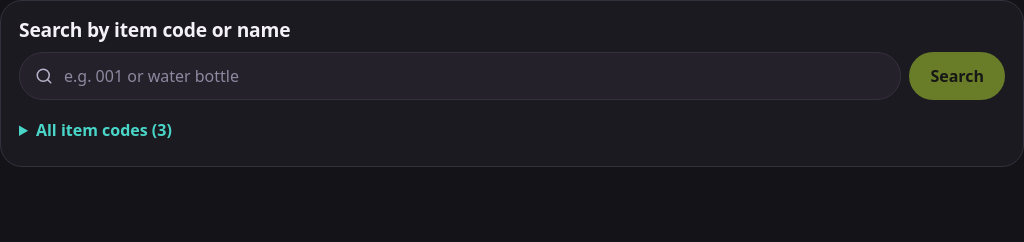
it: an unknown code says so instead of guessing
The image size is (1024, 242).
Expected: the heading "All item codes (3)" is shown, [36,119,172,141]
In the search field named "Item code or name": (460, 76) [19,52,901,100], type "777"
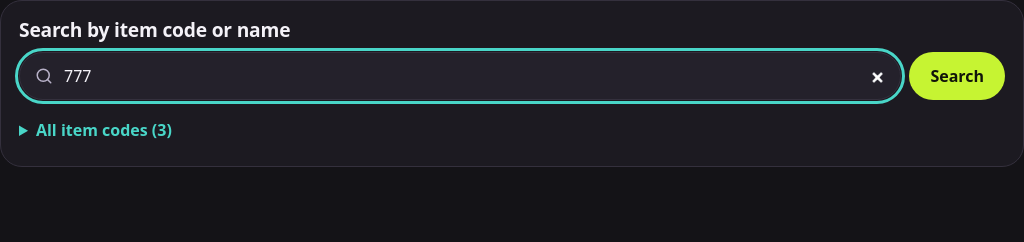
Click the button "Search": (957, 76) [909,52,1005,100]
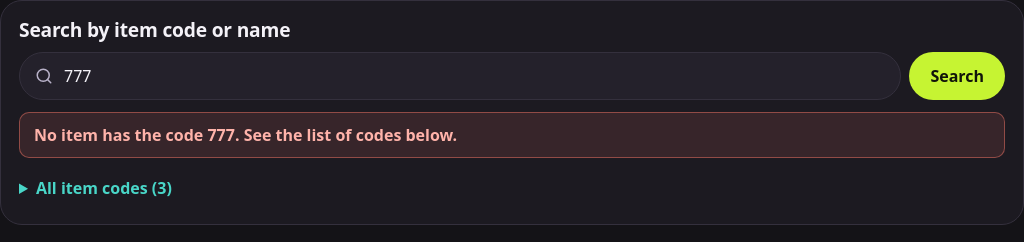
Result: the text "No item has the code 777. See the list of codes below." is shown at [19,112,1005,158]
